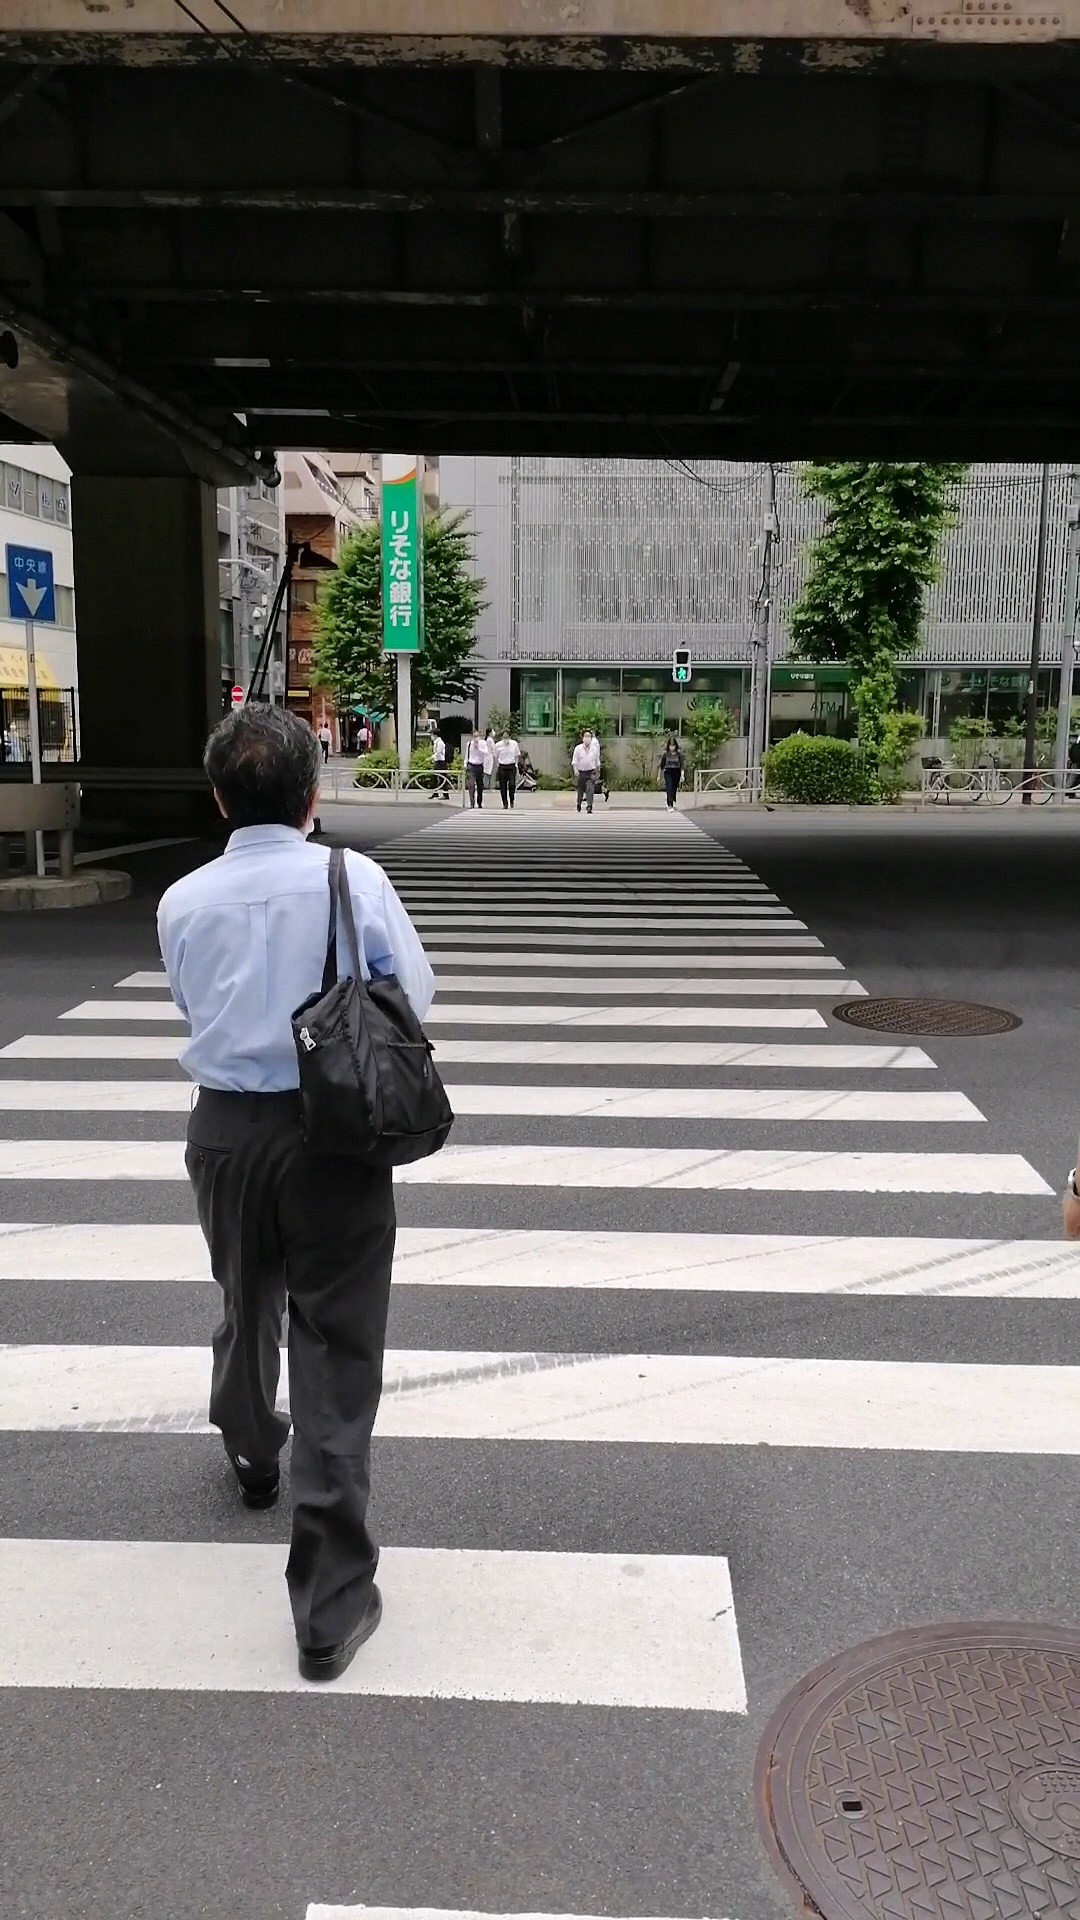green: (673, 649, 691, 682)
